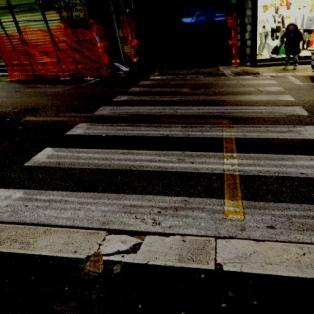Paso de Cebra: (60, 102, 313, 145)
